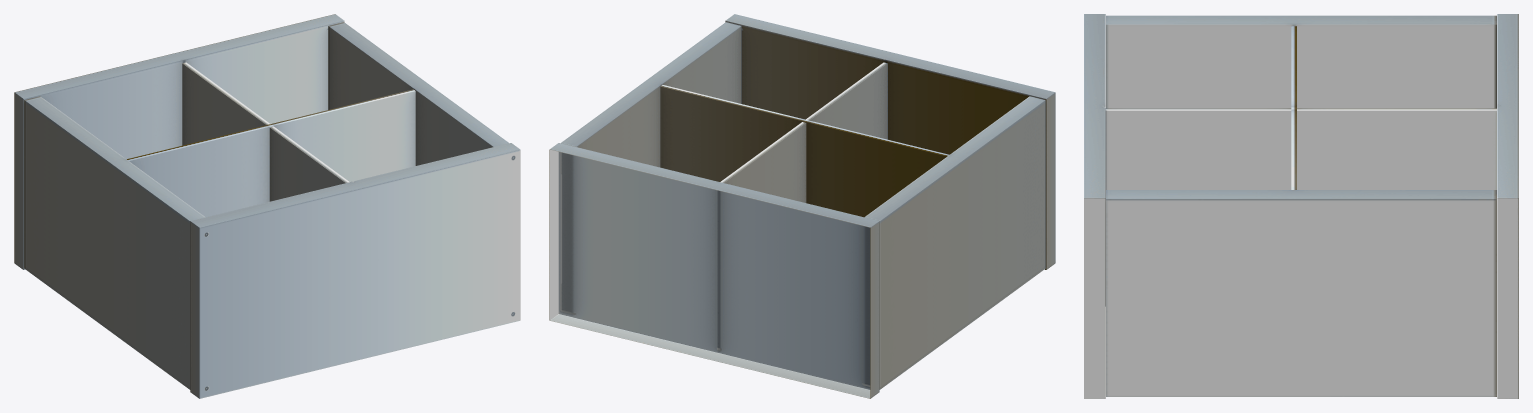
The model's file is SquareShelf.obj.
The picture shows the model from 3 angles, left to right: view 1: azimuth 30°, elevation 25°; view 2: azimuth 150°, elevation 25°; view 3: azimuth 270°, elevation 25°; orthographic projection. The views are drawn at different scales.
Parts seen in each view (by area): view 1: SquareShelf; view 2: SquareShelf; view 3: SquareShelf.
Part boxes in pixels (left/top/right/bottom): SquareShelf: left=14, top=14, right=520, bottom=398; SquareShelf: left=549, top=14, right=1055, bottom=398; SquareShelf: left=1084, top=14, right=1518, bottom=398.
Size of the model in its own units: 0.7687 by 0.3919 by 0.7682.
